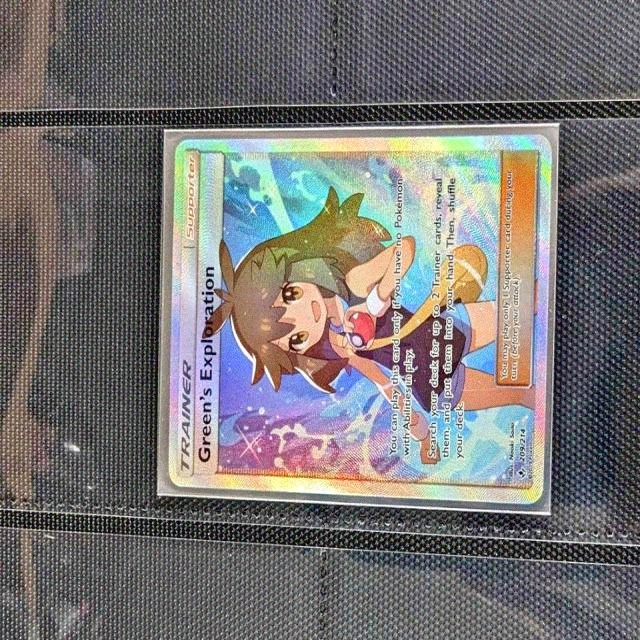card: (167, 132, 553, 507)
